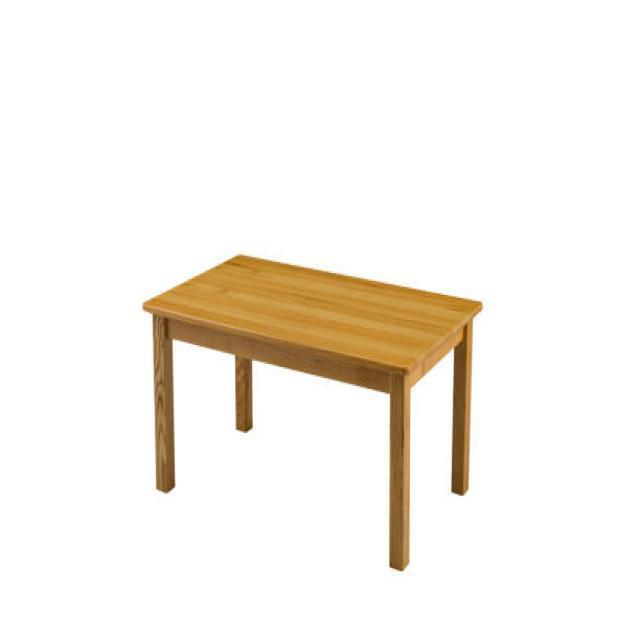table: (141, 251, 482, 571)
